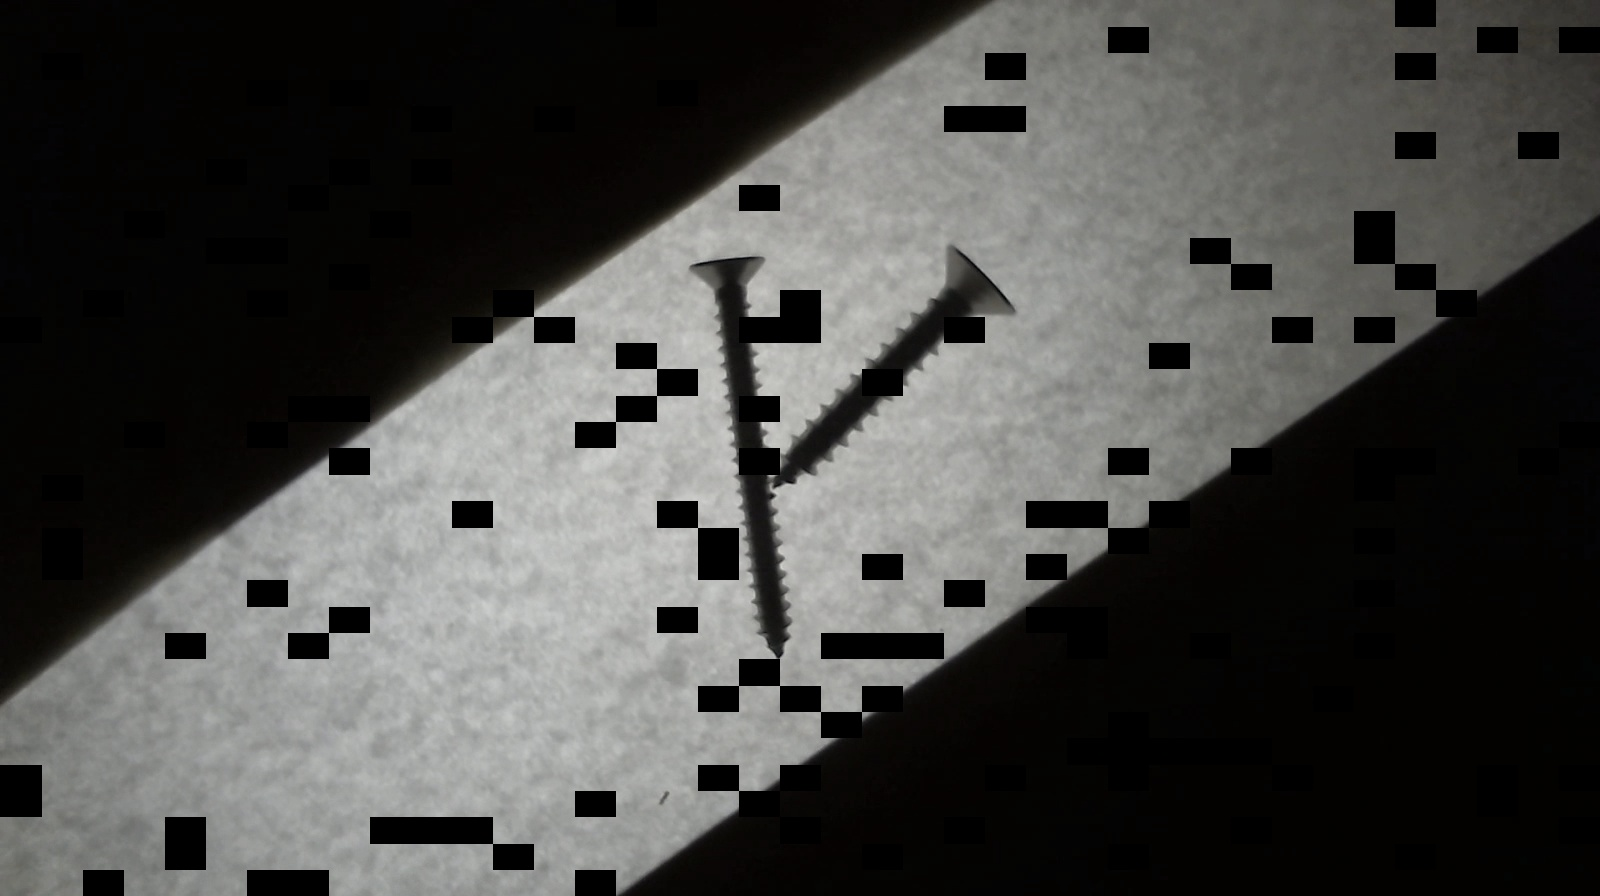S001: (776, 240, 1018, 480)
S002: (690, 244, 797, 655)
